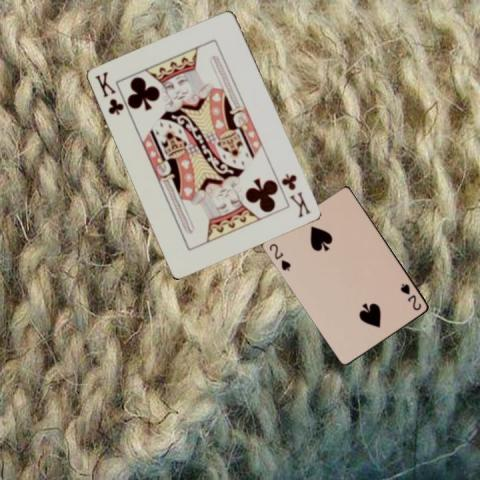2s: (398, 281, 424, 312), (266, 241, 292, 272)
Kc: (92, 68, 126, 117), (279, 171, 313, 219)
